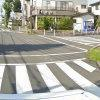crosswalks: (0, 57, 100, 100)
